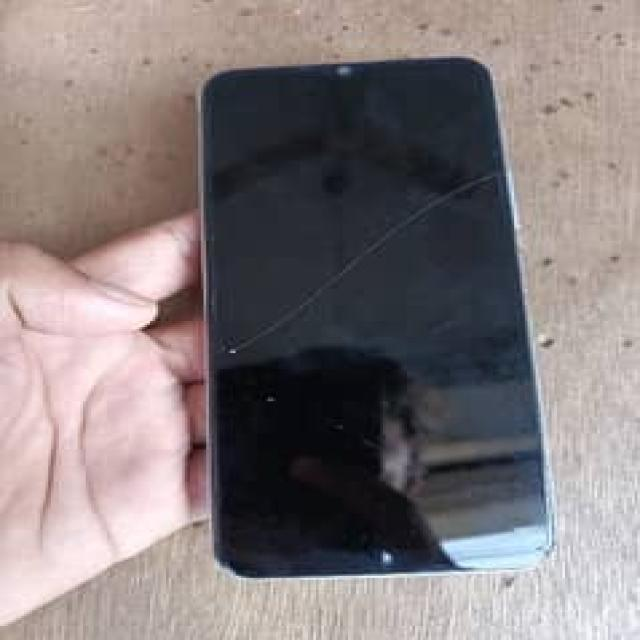mobile phone: (193, 54, 557, 582)
